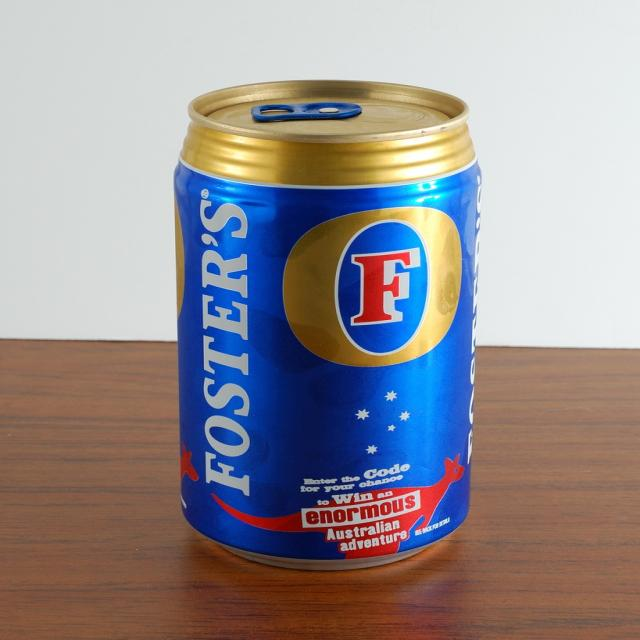fosters: (279, 204, 468, 373)
